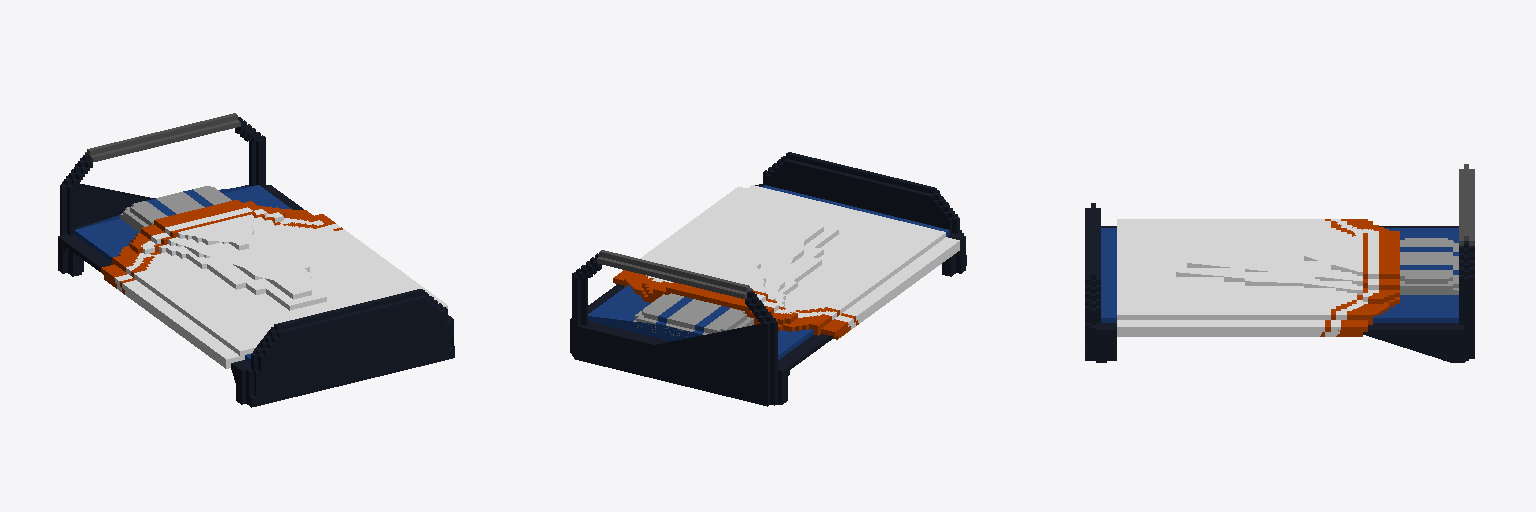
The model's file is Bed.obj.
3 renders of one model, left to right at view 1: azimuth 30°, elevation 25°; view 2: azimuth 150°, elevation 25°; view 3: azimuth 270°, elevation 25°, orthographic.
Parts seen in each view (by area): view 1: Bed_Bed.001; view 2: Bed_Bed.001; view 3: Bed_Bed.001.
Boxes of the visible parts, box(x1,y1,x2,y2) form: Bed_Bed.001: box(58, 113, 454, 407); Bed_Bed.001: box(570, 152, 966, 406); Bed_Bed.001: box(1085, 164, 1474, 362).
Size of the model in its own units: 3 by 1.44 by 4.56.